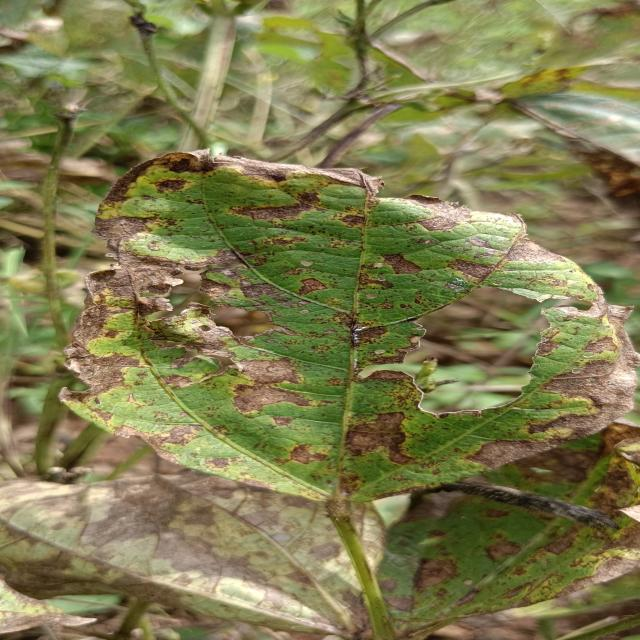Black gram_leaf spot: (50, 141, 640, 511), (4, 463, 381, 628), (356, 444, 640, 640)
